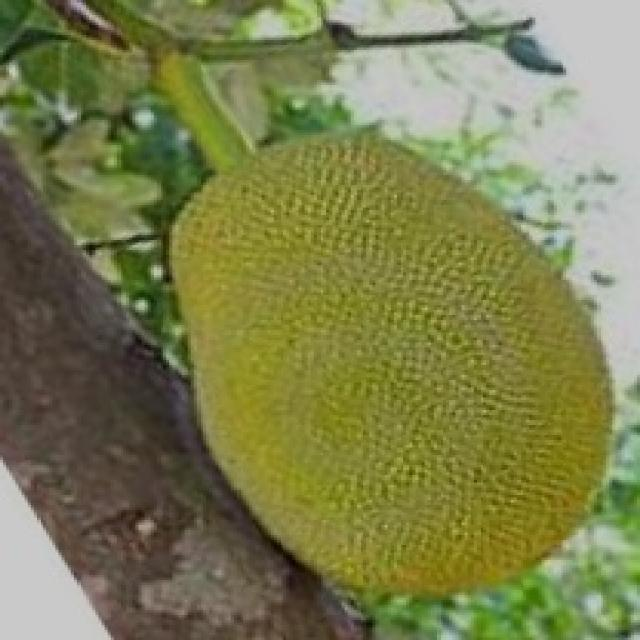Fruit: (228, 268, 637, 638)
